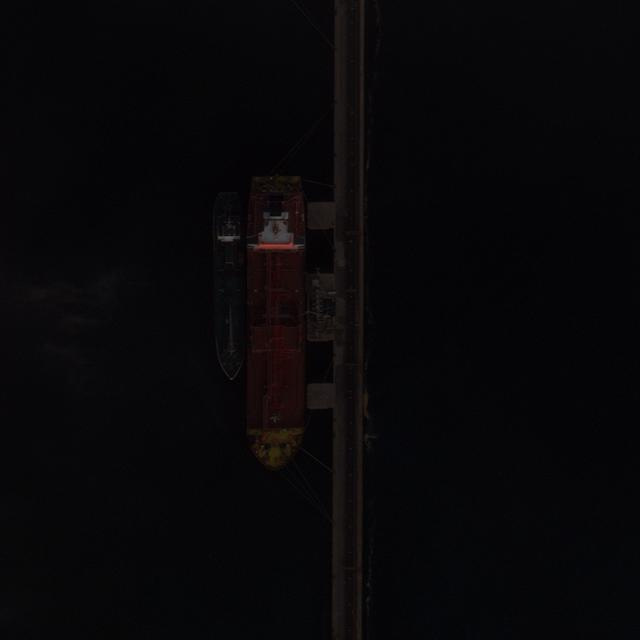Oil Tanker: (248, 176, 310, 471), (215, 193, 247, 382)
